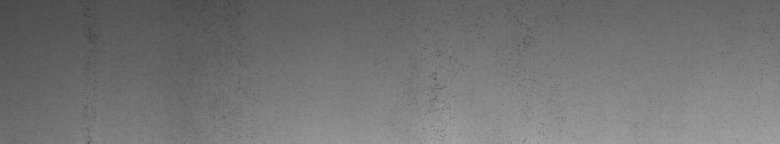ib: (424, 16, 528, 91)
